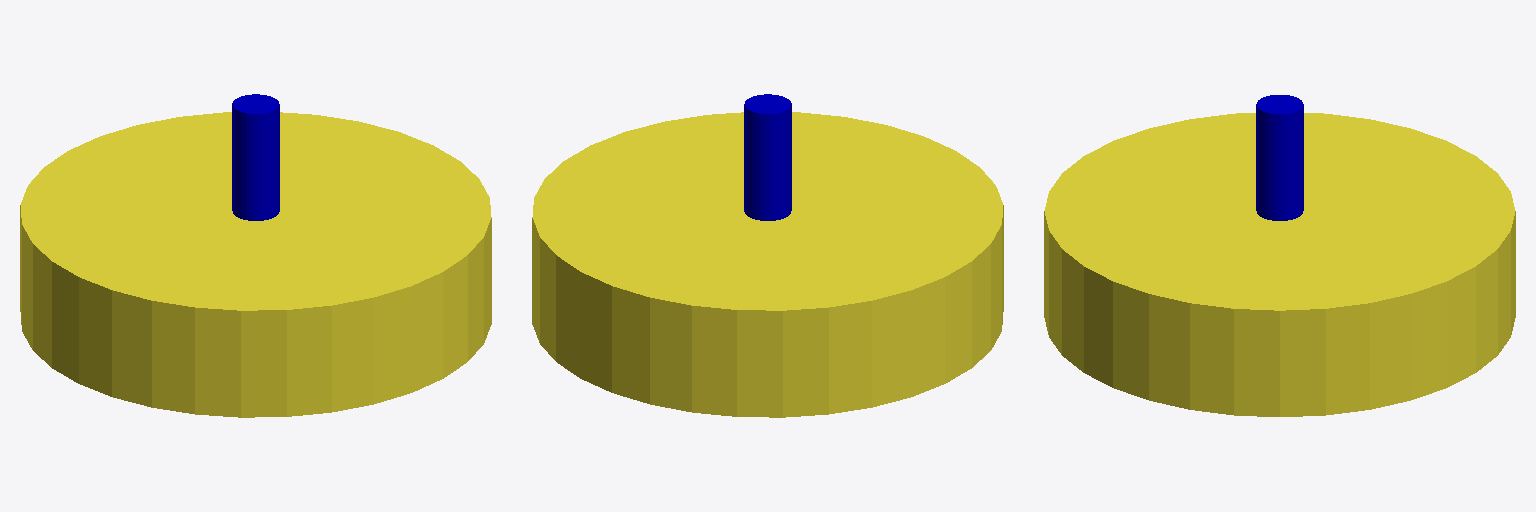
The robot description file, URDF, robot "pointRobot":
<?xml version="1.0"?>
<!-- =================================================================================== -->
<!-- |    This document was autogenerated by xacro from panda_arm.urdf.xacro           | -->
<!-- |    EDITING THIS FILE BY HAND IS NOT RECOMMENDED                                 | -->
<!-- =================================================================================== -->


<robot name="pointRobot">
  <material name="blue">
      <color rgba="0 0 0.8 1"/>
  </material>
  <link name="world"/>
  <link name="base_link_x">
    <inertial>
      <mass value="1.0"/>
      <origin rpy="0 0 0" xyz="0 0 0"/>
      <inertia ixx="1.0" ixy="0.0" ixz="0.0" iyy="1.0" iyz="0.0" izz="1.0"/>
    </inertial>
  </link>
  <link name="base_link_y">
    <inertial>
      <mass value="1.0"/>
      <origin rpy="0 0 0" xyz="0 0 0"/>
      <inertia ixx="1.0" ixy="0.0" ixz="0.0" iyy="1.0" iyz="0.0" izz="1.0"/>
    </inertial>
  </link>
  <link name="base_link">
    <inertial>
      <mass value="100.0"/>
      <origin rpy="0 0 0" xyz="0 0 0"/>
      <inertia ixx="1.0" ixy="0.0" ixz="0.0" iyy="1.0" iyz="0.0" izz="1.0"/>
    </inertial>
    <collision>
      <origin rpy="0.0 0 0" xyz="0 0 0"/>
      <geometry>
          <cylinder length="0.1" radius="0.2"/>
      </geometry>
    </collision>
    <visual>
      <origin rpy="0.0 0 0" xyz="0 0 0"/>
      <geometry>
          <cylinder length="0.1" radius="0.2"/>
      </geometry>
    </visual>
  </link>
  <link name="lidar_link">
    <inertial>
      <mass value="100.0"/>
      <origin rpy="0 0 0" xyz="0 0 0"/>
      <inertia ixx="1.0" ixy="0.0" ixz="0.0" iyy="1.0" iyz="0.0" izz="1.0"/>
    </inertial>
    <collision>
      <origin rpy="0.0 0 0" xyz="0 0 0"/>
      <geometry>
          <cylinder length="0.1" radius="0.02"/>
      </geometry>
    </collision>
    <visual>
      <origin rpy="0.0 0 0" xyz="0 0 0"/>
      <geometry>
          <cylinder length="0.1" radius="0.02"/>
      </geometry>
      <material name="blue"/>
    </visual>
  </link>
  <link name="lidar_sensor_link"/>
  <joint name="mobile_joint_x" type="prismatic">
    <safety_controller k_position="100.0" k_velocity="40.0" soft_lower_limit="-2.8973" soft_upper_limit="2.8973"/>
    <parent link="world"/>
    <child link="base_link_x"/>
    <origin rpy="0 0 0" xyz="0 0 0.05"/>
    <axis xyz="1 0 0"/>
    <limit effort="87" lower="-5" upper="5" velocity="2.1750"/>
  </joint>
  <joint name="mobile_joint_y" type="prismatic">
    <safety_controller k_position="100.0" k_velocity="40.0" soft_lower_limit="-2.8973" soft_upper_limit="2.8973"/>
    <parent link="base_link_x"/>
    <child link="base_link_y"/>
    <origin rpy="0 0 0" xyz="0 0 0"/>
    <axis xyz="0 1 0"/>
    <limit effort="87" lower="-5" upper="5" velocity="2.1750"/>
  </joint>
  <joint name="mobile_joint_theta" type="fixed">
    <parent link="base_link_y"/>
    <child link="base_link"/>
    <origin rpy="0 0 0" xyz="0 0 0"/>
  </joint>
  <joint name="robot_lidar" type="fixed">
    <parent link="base_link"/>
    <child link="lidar_link"/>
    <origin rpy="0 0 0" xyz="0 0 0.1"/>
  </joint>
  <joint name="lidar_sensor_joint" type="fixed">
    <parent link="lidar_link"/>
    <child link="lidar_sensor_link"/>
    <origin rpy="0 0 0" xyz="0 0 0.1"/>
  </joint>
  
</robot>

--- Render facts (derived) ---
3 views of the same robot in one strip: view 1: azimuth 30°, elevation 25°; view 2: azimuth 150°, elevation 25°; view 3: azimuth 270°, elevation 25° (orthographic).
Robot: pointRobot — 6 links, 5 joints (2 prismatic, 3 fixed); root link world; default pose: every joint at zero.
Links seen in each view (by area): view 1: base_link, lidar_link; view 2: base_link, lidar_link; view 3: base_link, lidar_link.
Boxes of the visible links, x1=… form: base_link: x1=20, y1=112, x2=491, y2=417; lidar_link: x1=232, y1=94, x2=279, y2=220; base_link: x1=532, y1=112, x2=1003, y2=417; lidar_link: x1=744, y1=94, x2=791, y2=220; base_link: x1=1044, y1=113, x2=1515, y2=416; lidar_link: x1=1256, y1=95, x2=1303, y2=220.
Size in the robot's own frame: 0.4 by 0.4 by 0.2 metres.
Geometry: primitives only (box / cylinder / sphere), no mesh files.